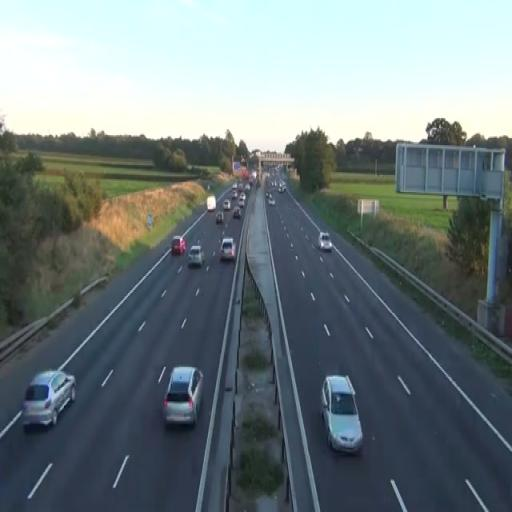Car: (320, 374, 364, 455), (22, 368, 76, 432), (163, 365, 204, 429), (219, 238, 236, 262), (188, 244, 205, 268), (318, 231, 332, 253), (172, 234, 186, 254), (216, 212, 224, 225), (233, 208, 241, 219)
